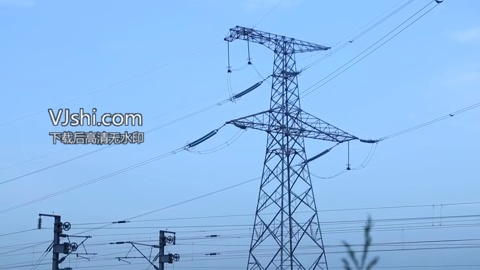tower_body: (221, 17, 334, 270)
tower_foot: (246, 213, 327, 270)
tower_head: (224, 21, 332, 58)
